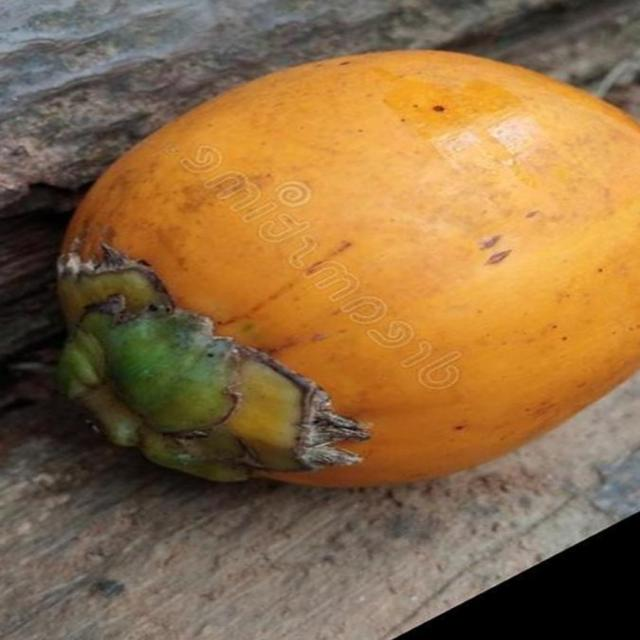good: (58, 51, 639, 486)
